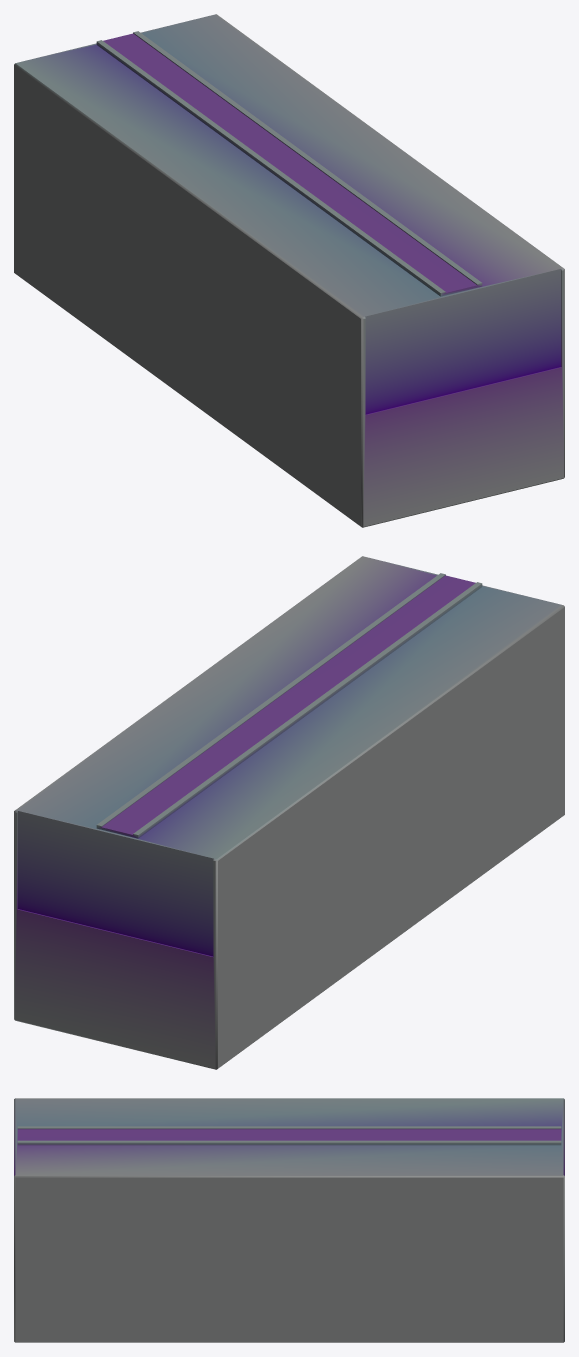
File: simready-box_long_a05.glb
The picture shows the model from 3 angles, top to bottom: view 1: azimuth 30°, elevation 25°; view 2: azimuth 150°, elevation 25°; view 3: azimuth 270°, elevation 25°; orthographic projection. The views are drawn at different scales.
Parts seen in each view (by area): view 1: case; view 2: case; view 3: case.
Boxes of the visible parts, x1,y1,x2,y2 form: case: [14, 14, 564, 527]; case: [14, 556, 564, 1069]; case: [14, 1098, 564, 1342].
Size of the model in its own units: 0.156 by 0.1566 by 0.462.
